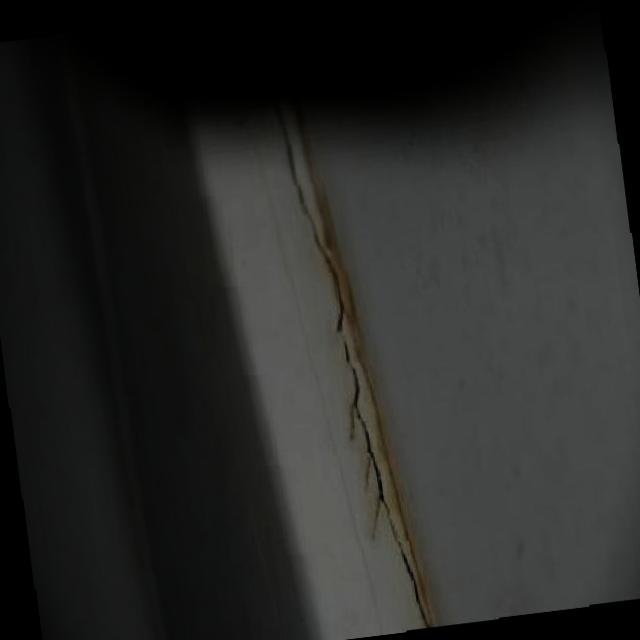crack: (352, 409, 429, 632), (306, 200, 364, 411), (273, 106, 308, 206)
